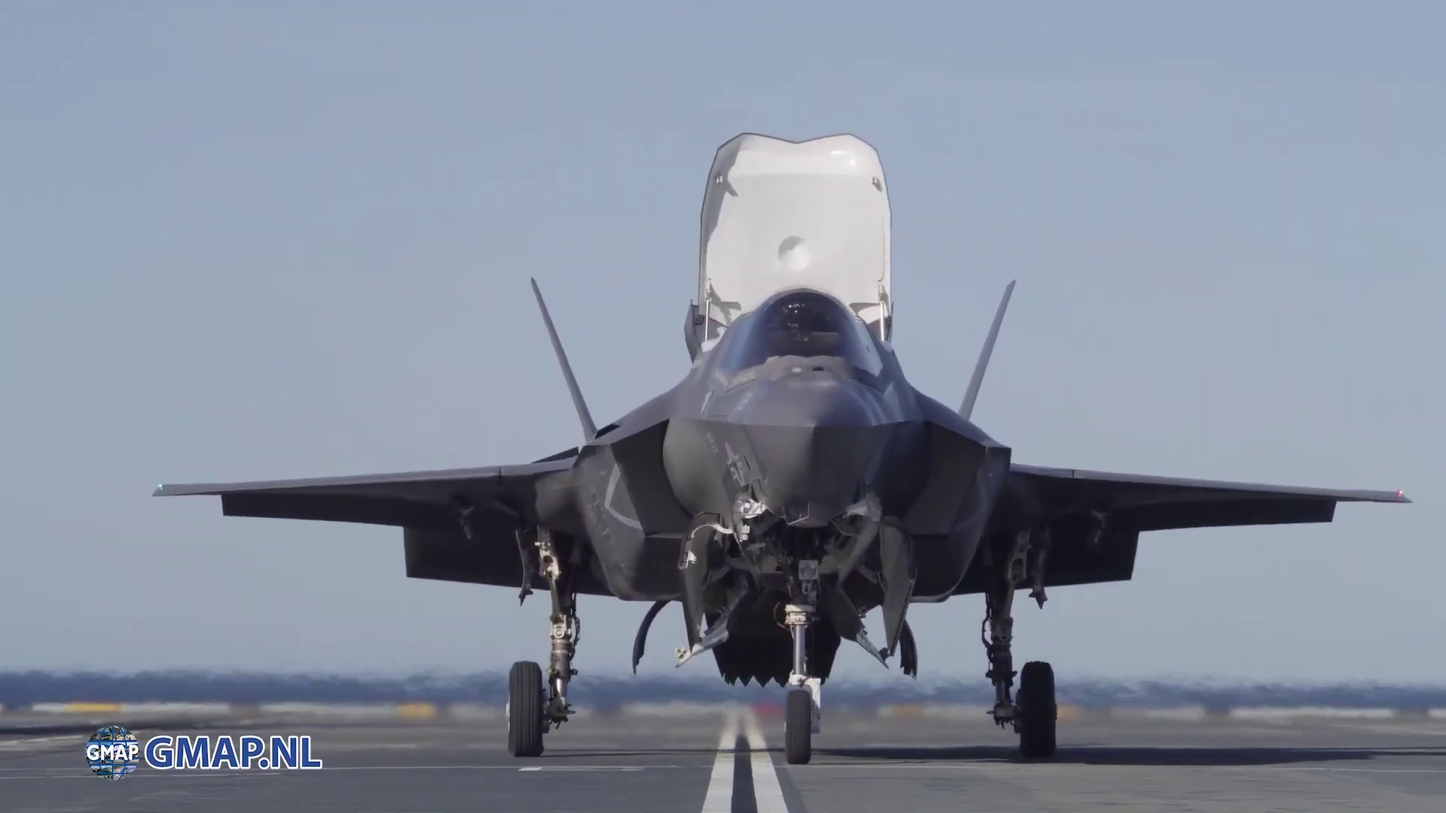F35: (145, 128, 1419, 760)
